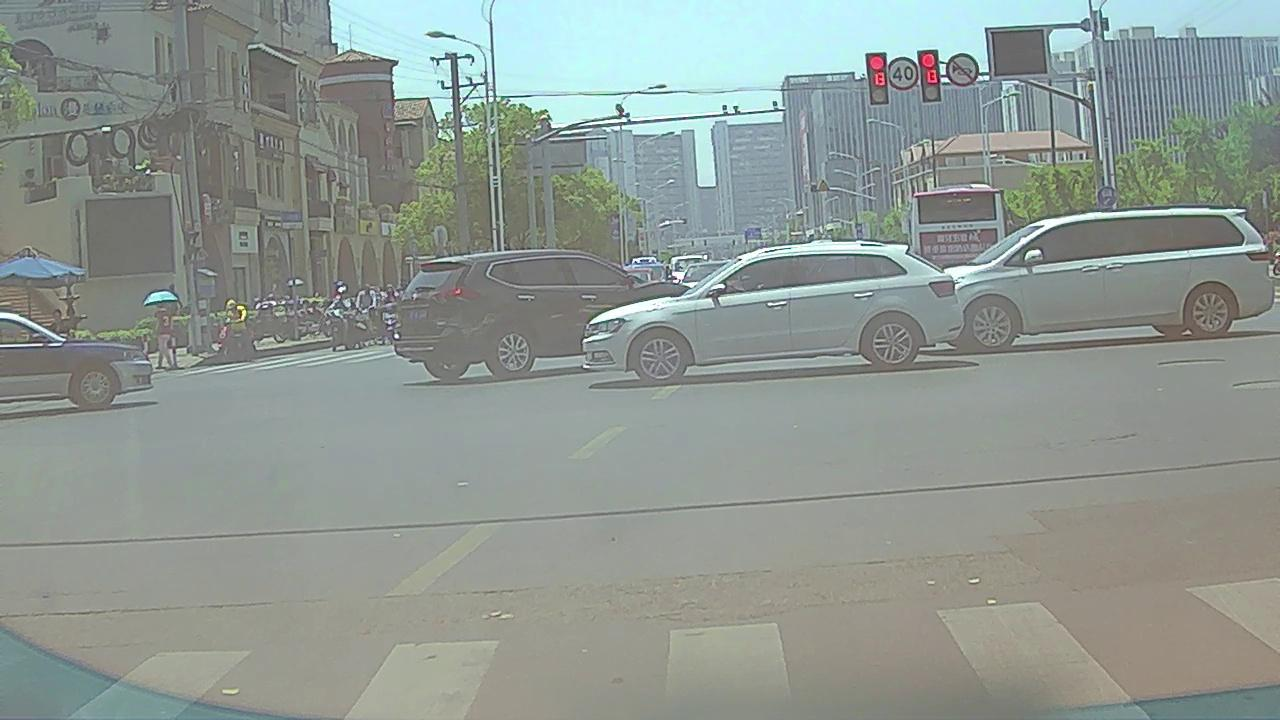traffic_light: (921, 50, 941, 102), (869, 53, 887, 103)
